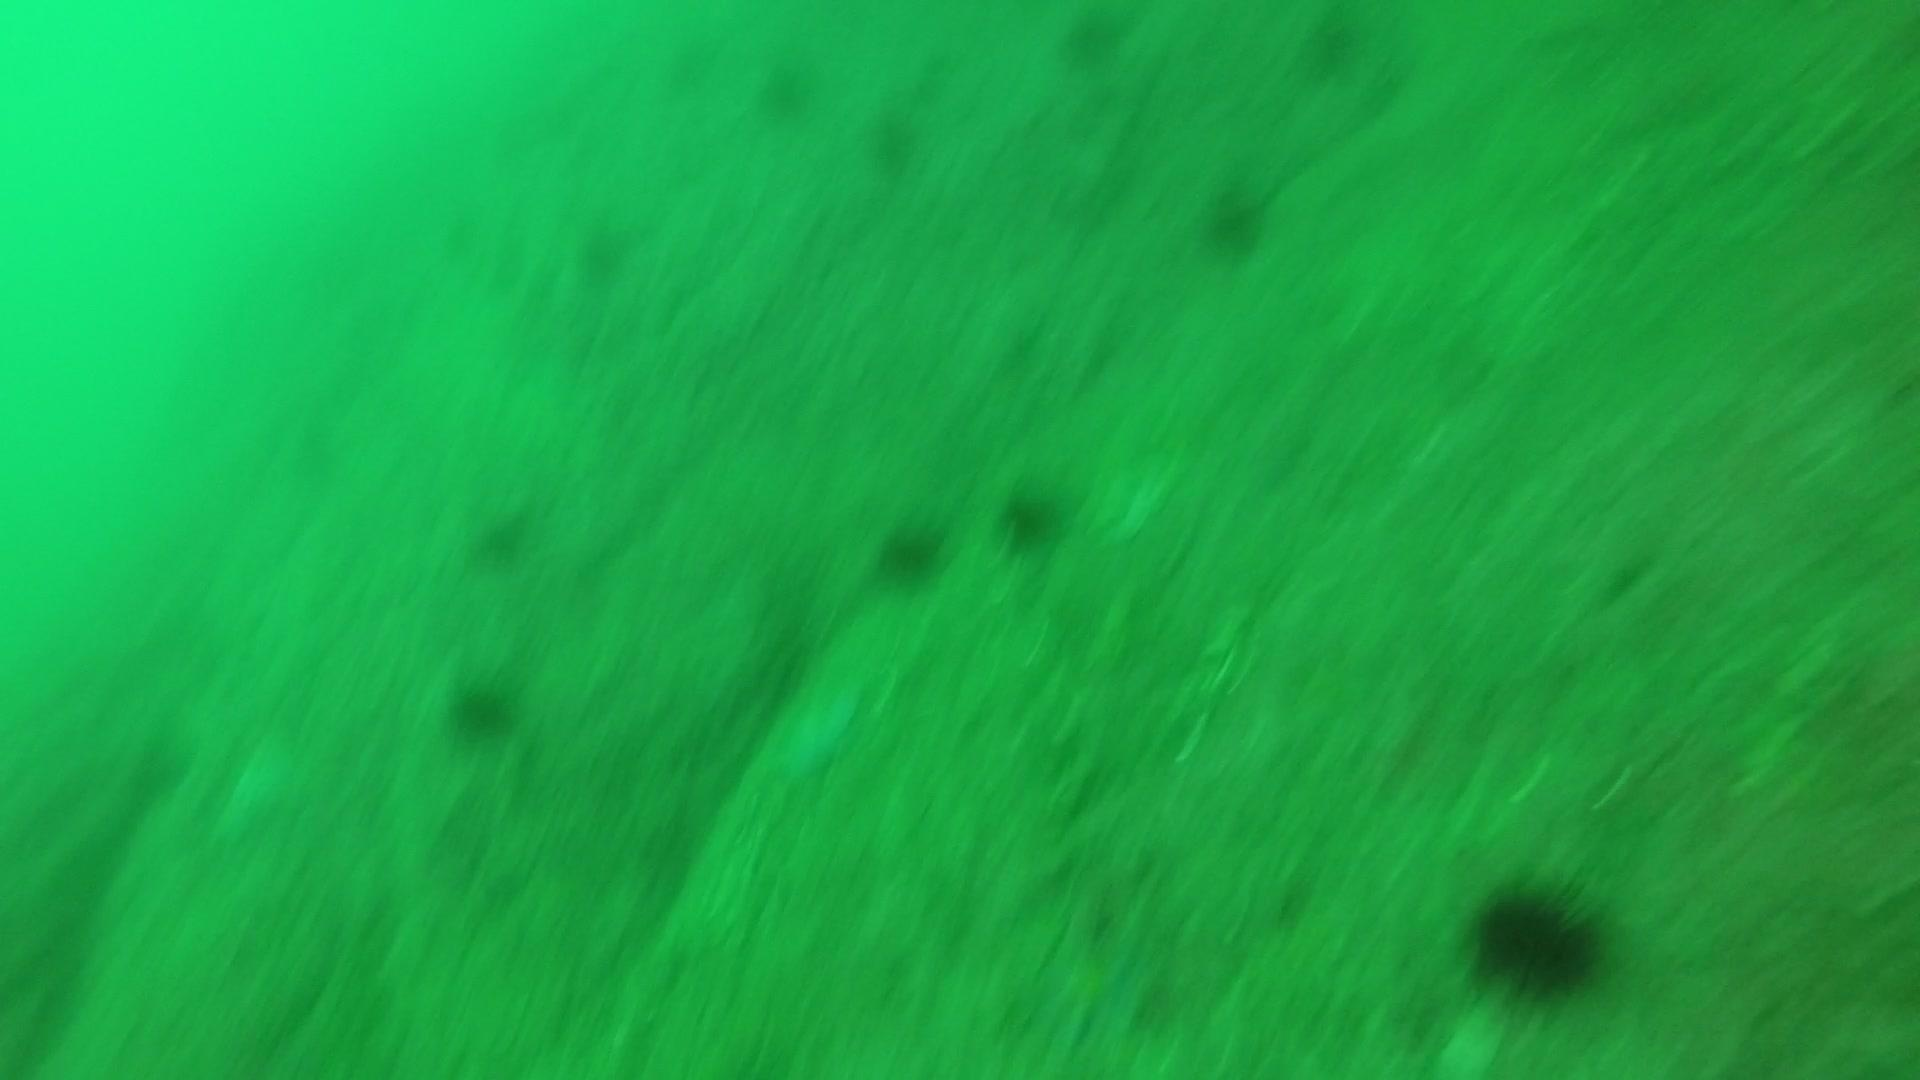echinus: (1462, 872, 1611, 1002), (1195, 177, 1275, 262), (442, 670, 524, 744), (1054, 3, 1143, 70), (994, 477, 1071, 554), (872, 514, 949, 588), (464, 501, 538, 570), (862, 102, 928, 175), (571, 215, 637, 287), (752, 54, 820, 123)
starfish: (1013, 915, 1160, 1056), (752, 676, 870, 794)
